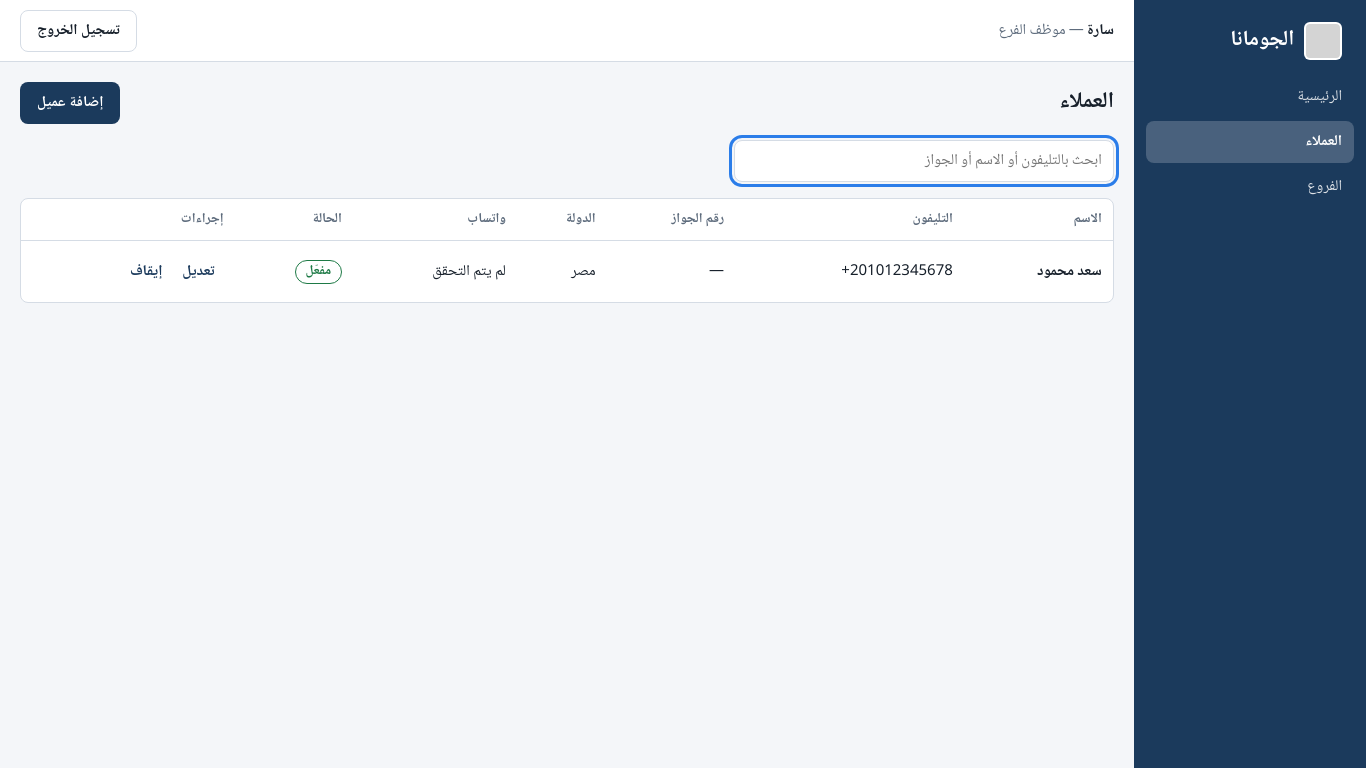
customers screen › searches by what is typed, after a short pause
Step 1. Type "0101" into the search field → (924, 161), box left=734, top=140, right=1114, bottom=182
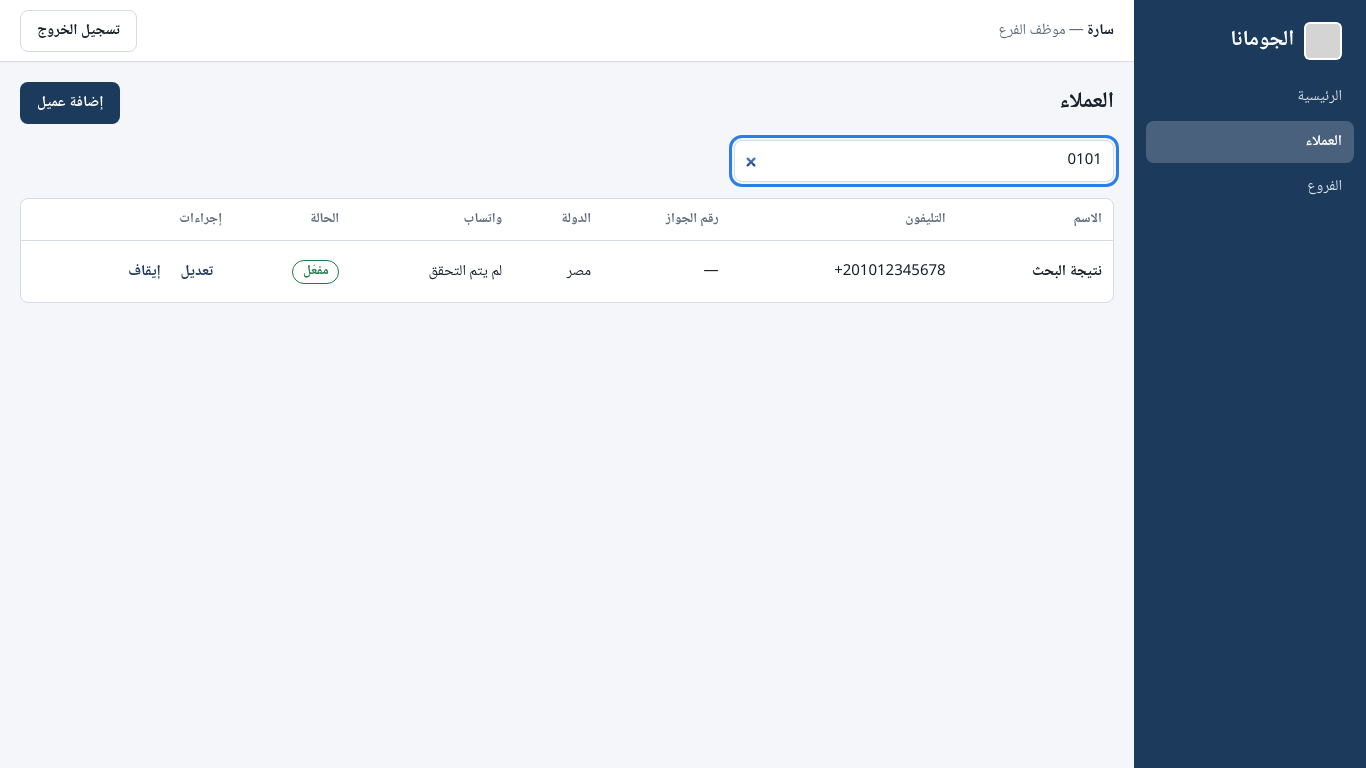
Expected: the text "نتيجة البحث" is shown, left=1032, top=259, right=1102, bottom=285
